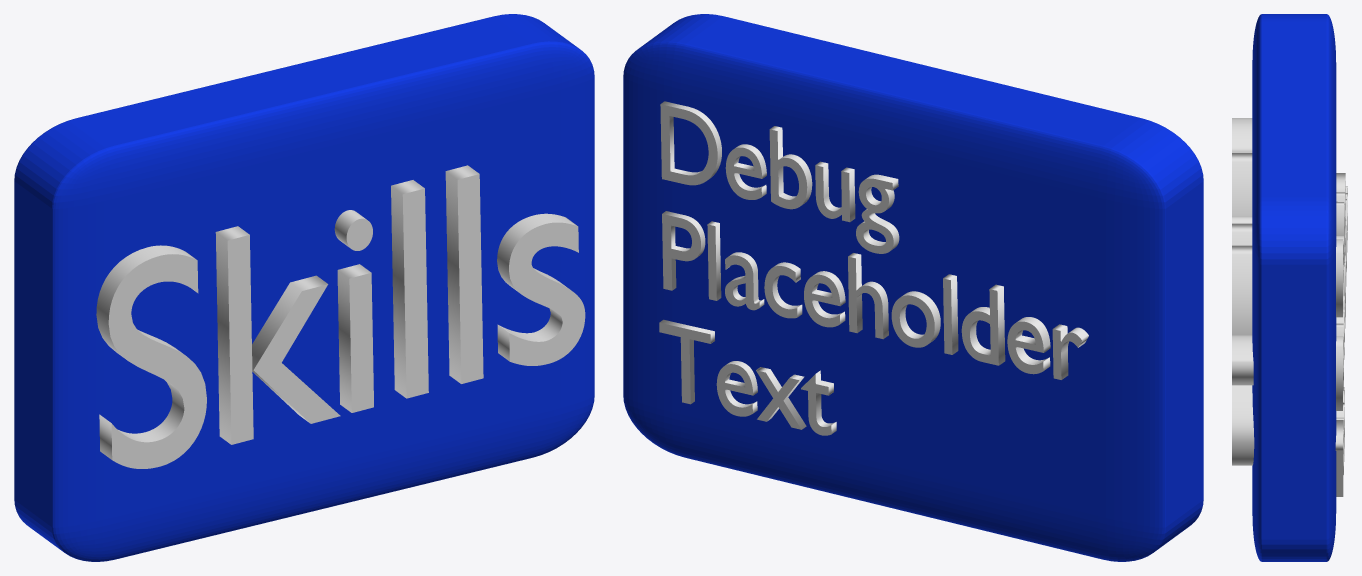
Rendered from Skills.glb.
The picture shows the model from 3 angles, left to right: view 1: azimuth 30°, elevation 25°; view 2: azimuth 150°, elevation 25°; view 3: azimuth 270°, elevation 25°; orthographic projection. The views are drawn at different scales.
Parts seen in each view (by area): view 1: Cube, Text; view 2: Cube, Text.001; view 3: Cube, Text, Text.001.
Boxes of the visible parts, box(x1,y1,x2,y2) form: Cube: box(14, 14, 594, 561); Text: box(96, 165, 585, 468); Cube: box(623, 14, 1203, 561); Text.001: box(659, 101, 1088, 435); Cube: box(1252, 14, 1336, 561); Text: box(1232, 118, 1254, 465); Text.001: box(1335, 173, 1347, 496).
Size of the model in its own units: 412 by 301 by 88.49.
